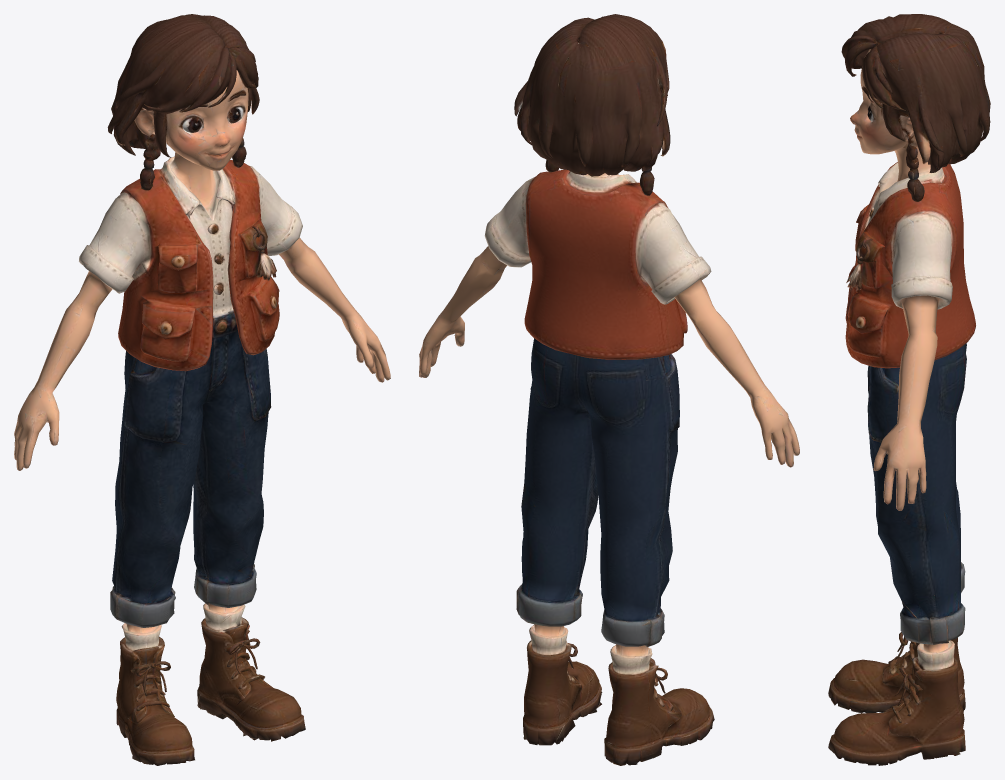
The model's file is angler-female.glb.
3 views of the same model, side by side, from view 1: azimuth 30°, elevation 25°; view 2: azimuth 150°, elevation 25°; view 3: azimuth 270°, elevation 25° (orthographic).
Bounding box in the file's own units: 0.5176 × 0.9512 × 0.1973.
1 material, 1 textured.
